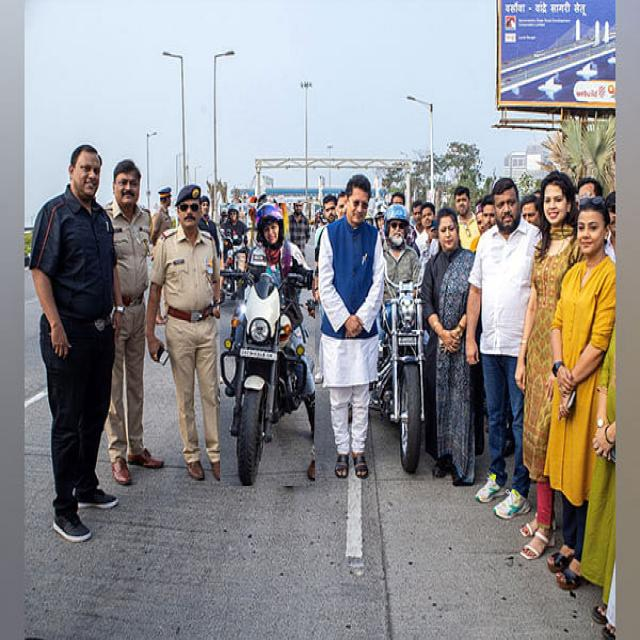motorcycle: (220, 203, 315, 486), (371, 203, 422, 472)
